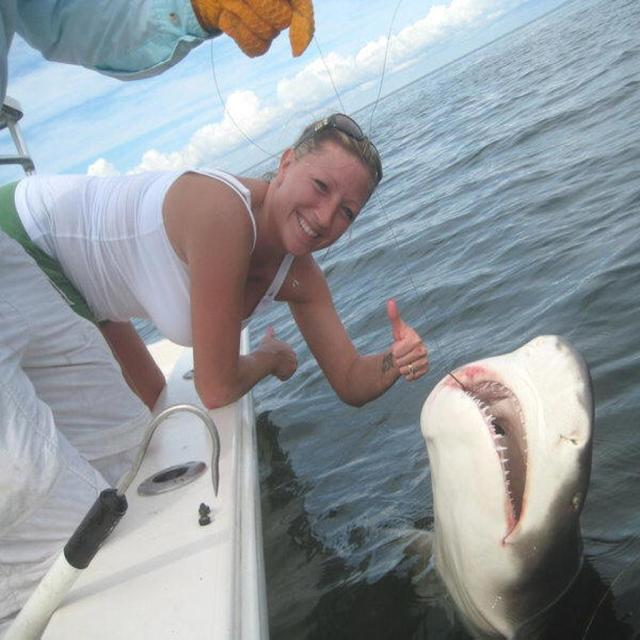Face: (269, 139, 384, 262)
